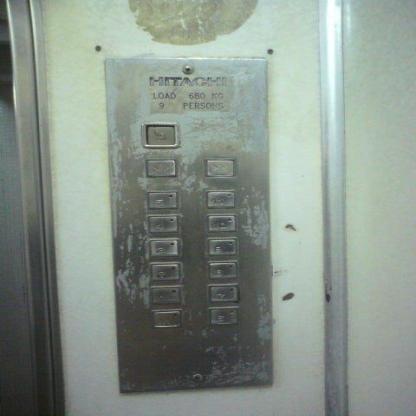10: (204, 211, 236, 232)
11: (204, 187, 236, 208)
2: (146, 261, 182, 282)
3: (145, 237, 181, 258)
4: (144, 213, 180, 234)
5: (143, 188, 179, 210)
6: (206, 304, 239, 326)
7: (206, 282, 239, 303)
8: (206, 258, 238, 280)
9: (206, 235, 238, 256)
blur: (139, 120, 180, 148), (146, 284, 183, 306), (148, 308, 182, 328)
close: (201, 156, 238, 177)
open: (142, 157, 179, 178)
